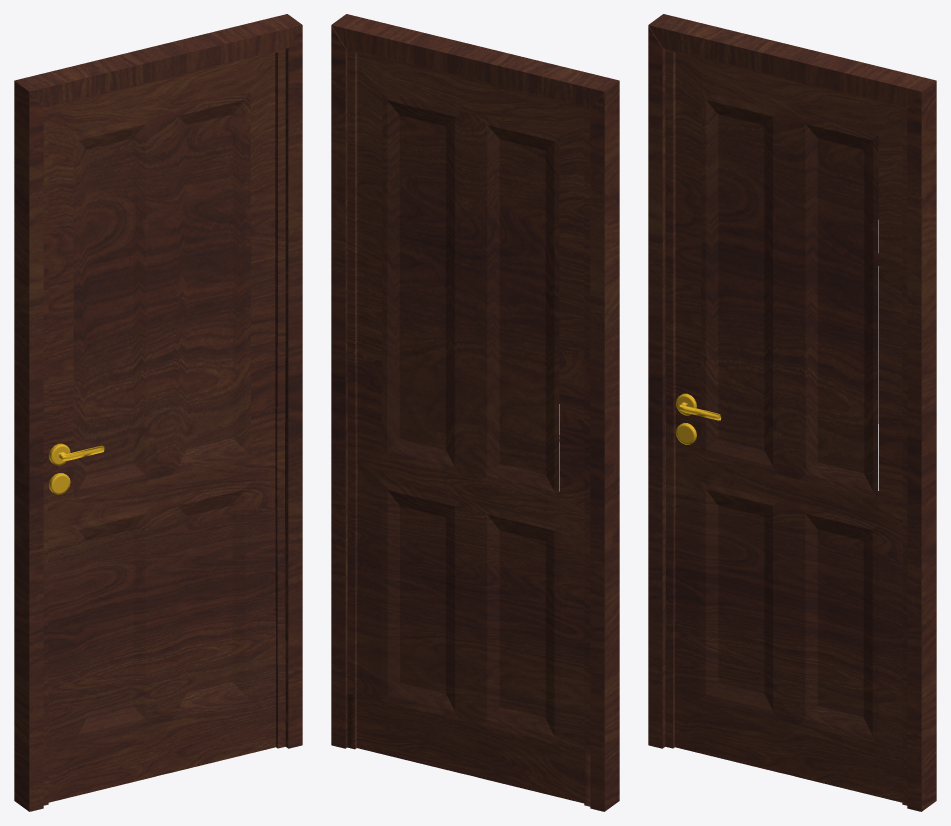
File: PUERTA23_PIACENZA.glb
3 views of the same model, side by side, from view 1: azimuth 30°, elevation 25°; view 2: azimuth 150°, elevation 25°; view 3: azimuth 330°, elevation 25° (orthographic).
Visible parts, largest first — view 1: Puerta23_PIACENZA, Puerta23_Marco, Puerta23_Cerradura; view 2: Puerta23_PIACENZA, Puerta23_Marco; view 3: Puerta23_PIACENZA, Puerta23_Marco, Puerta23_Cerradura.
Boxes of the visible parts, bbox=[...] form: Puerta23_PIACENZA: bbox=[43, 49, 285, 805]; Puerta23_Marco: bbox=[14, 14, 302, 811]; Puerta23_Cerradura: bbox=[49, 443, 104, 494]; Puerta23_PIACENZA: bbox=[347, 48, 590, 806]; Puerta23_Marco: bbox=[331, 14, 619, 811]; Puerta23_PIACENZA: bbox=[665, 49, 907, 805]; Puerta23_Marco: bbox=[648, 14, 936, 811]; Puerta23_Cerradura: bbox=[675, 393, 721, 444].
Bounding box in the file's own units: 769 × 1936 × 85.
4 materials, 3 textured.
